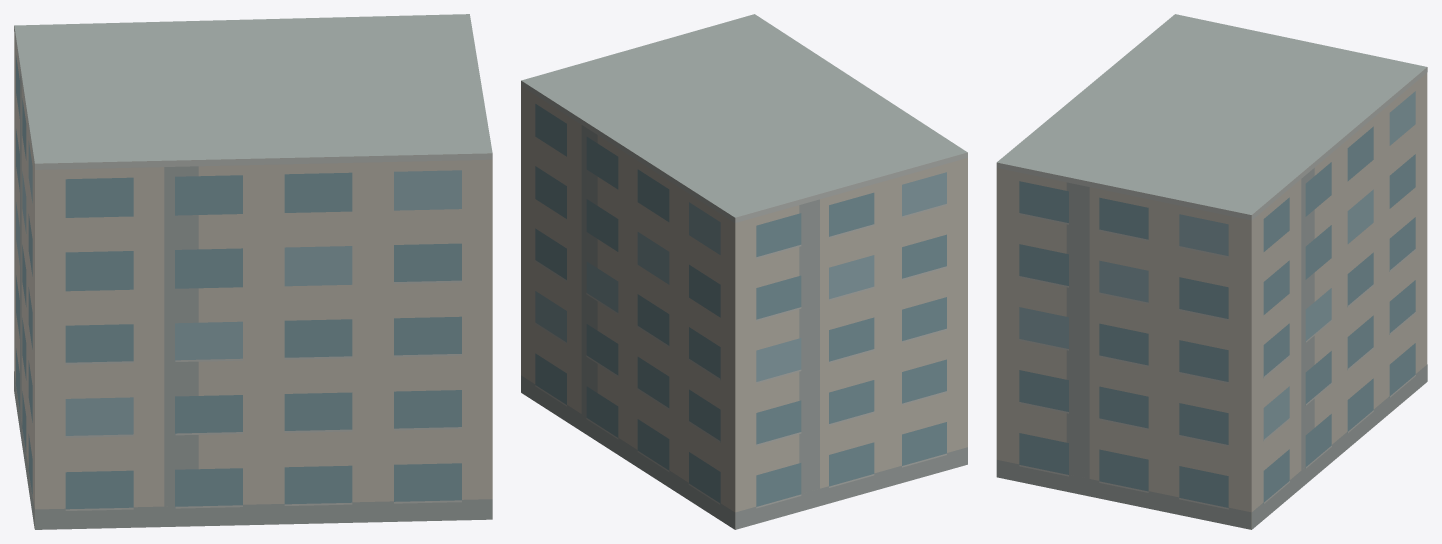
The model's file is survey-upis-32885012.glb.
3 views of the same model, side by side, from view 1: azimuth 30°, elevation 25°; view 2: azimuth 150°, elevation 25°; view 3: azimuth 270°, elevation 25° (orthographic). The views are drawn at different scales.
Visible parts, largest first — view 1: survey-upis-32885012.tmp; view 2: survey-upis-32885012.tmp; view 3: survey-upis-32885012.tmp.
Part boxes in pixels (<box>): survey-upis-32885012.tmp: <box>14,14,492,529</box>; survey-upis-32885012.tmp: <box>521,14,967,529</box>; survey-upis-32885012.tmp: <box>996,14,1427,529</box>.
Size of the model in its own units: 19.33 by 14.1 by 17.5.
